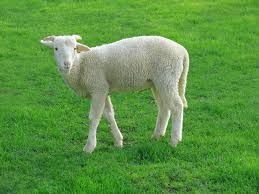koyun: (43, 30, 191, 153)
